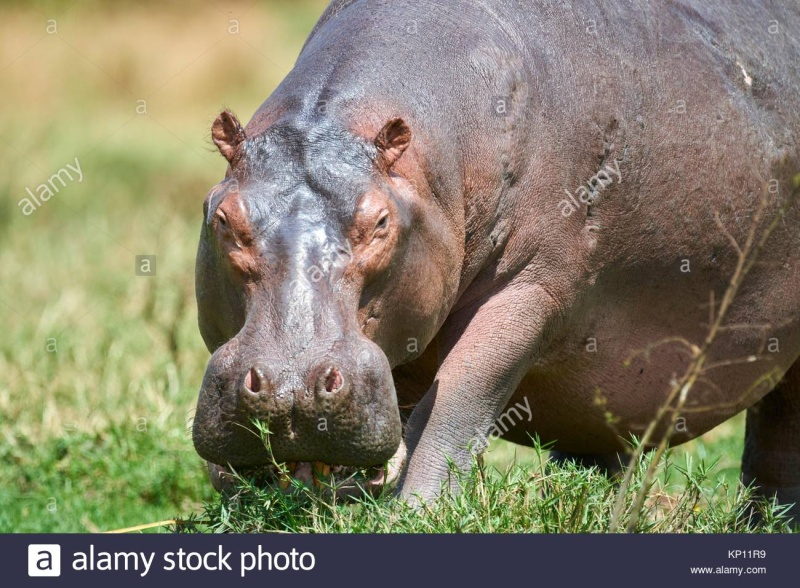hipopotamo: (196, 1, 800, 524)
